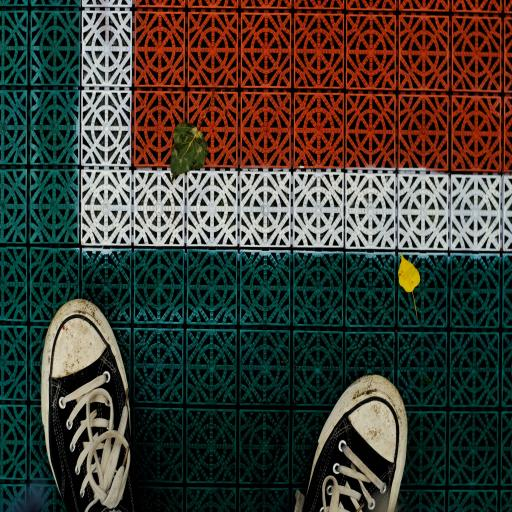shoe: (42, 300, 134, 511), (296, 376, 407, 511)
